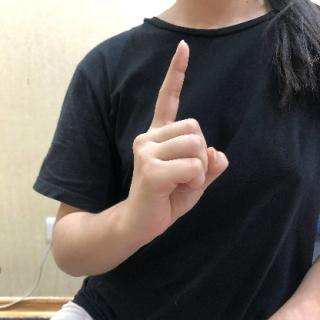RAA: (117, 35, 232, 244)
